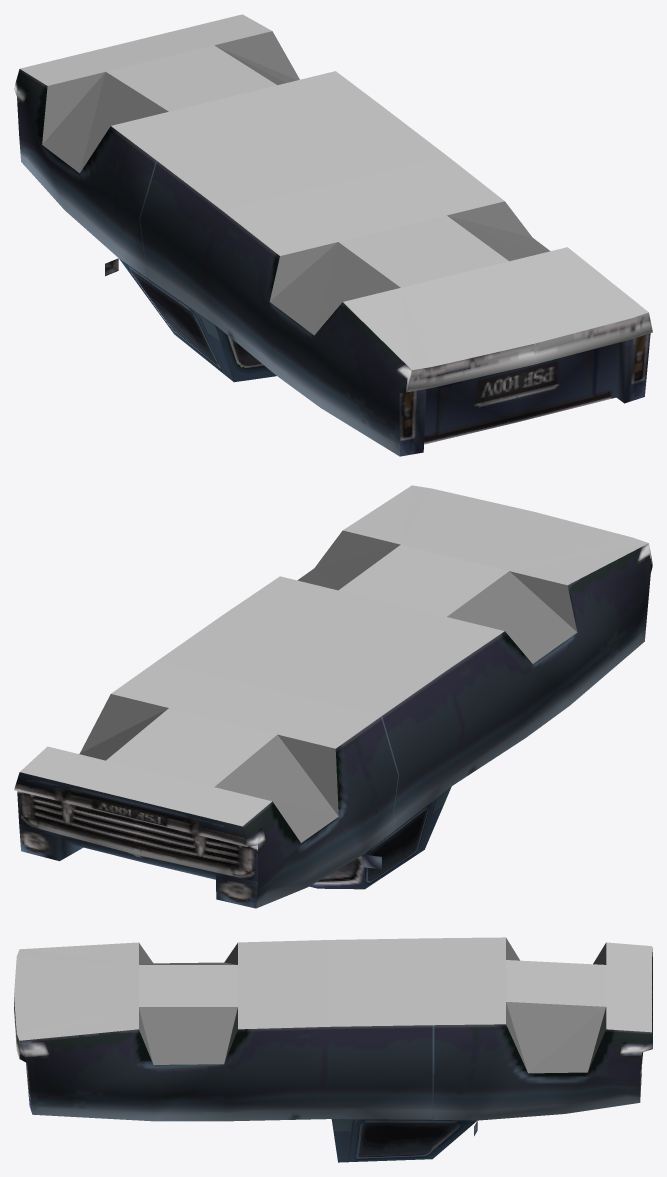
Rendered from VEGAS_model12_clean.obj.
3 renders of one model, top to bottom at view 1: azimuth 30°, elevation 25°; view 2: azimuth 150°, elevation 25°; view 3: azimuth 270°, elevation 25°, orthographic. The views are drawn at different scales.
Visible parts, largest first — view 1: VEGAS_model12_clean; view 2: VEGAS_model12_clean; view 3: VEGAS_model12_clean.
Boxes of the visible parts, x1,y1,x2,y2 form: VEGAS_model12_clean: [14, 14, 652, 456]; VEGAS_model12_clean: [14, 485, 652, 908]; VEGAS_model12_clean: [14, 937, 652, 1162].
Size of the model in its own units: 276 by 178 by 696.
